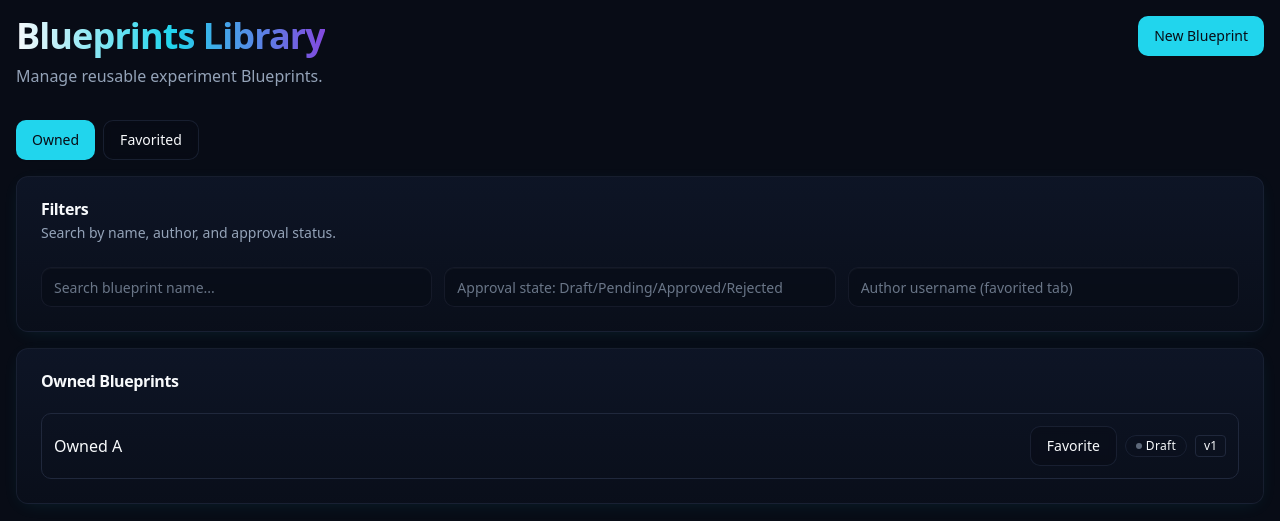
Test case: blueprint library/detail/moderation › renders owned and favorited lists through tabs
This screenshot has width=1280, height=521.
Expected: the link "Owned A" is shown, [54,434,122,458]
Click the button "Favorited" at (151, 140), box [103,120,199,160]
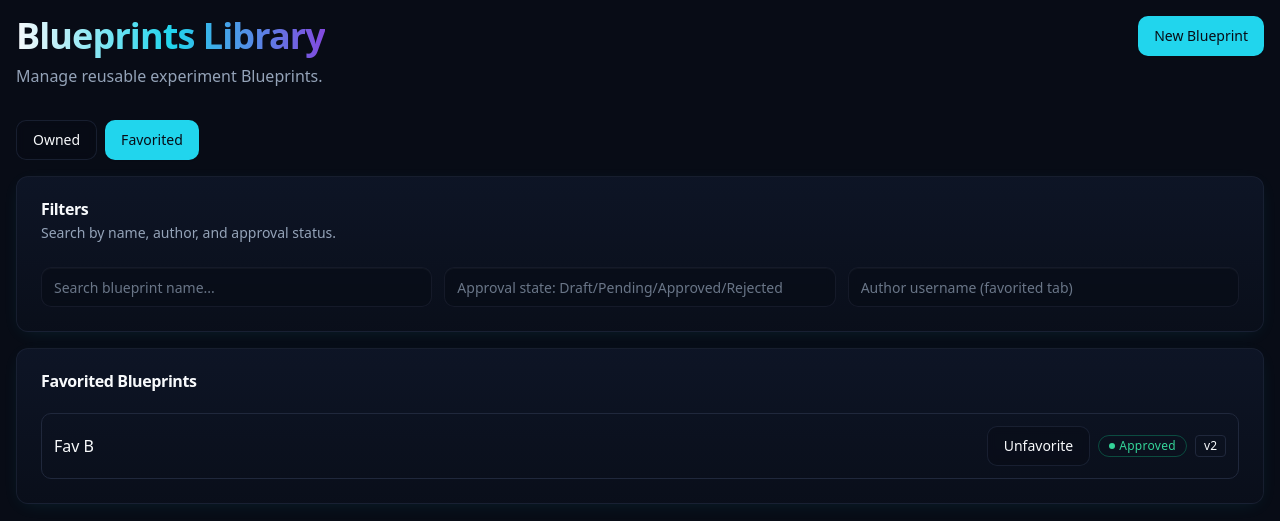
Now the link "Fav B" is shown, box [54,434,94,458]
